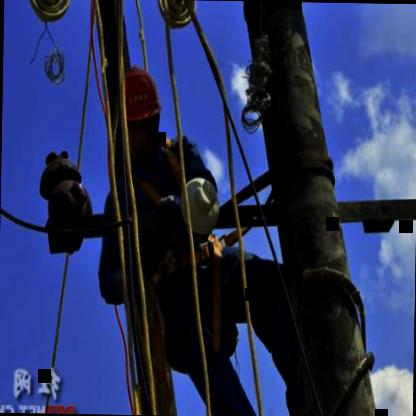helmet: (114, 59, 162, 164)
